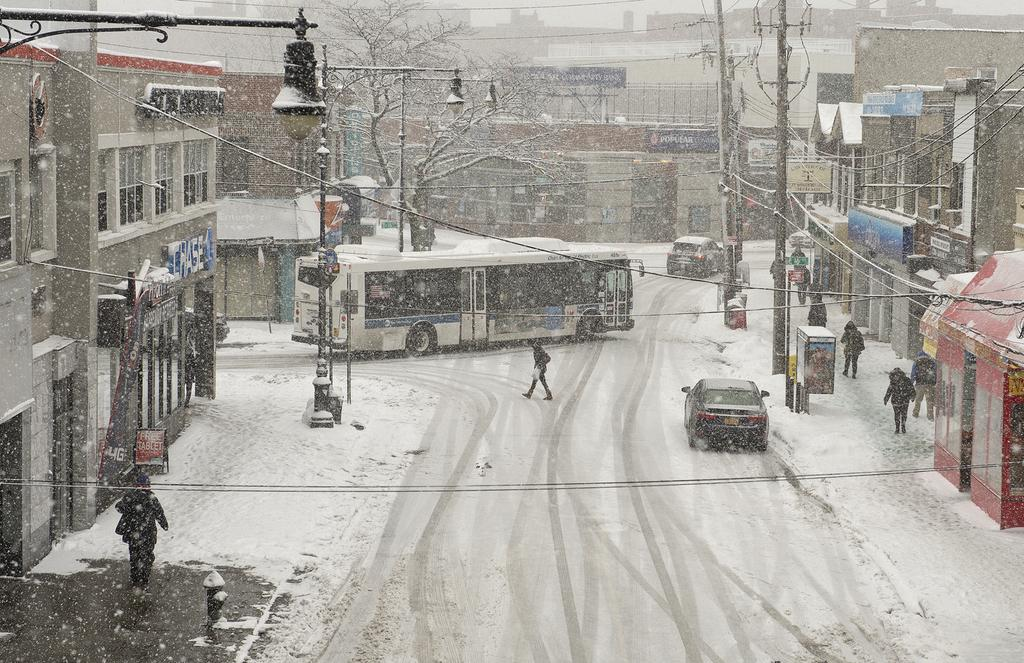vehicle: (295, 237, 645, 356), (682, 378, 770, 450), (665, 236, 725, 279)
